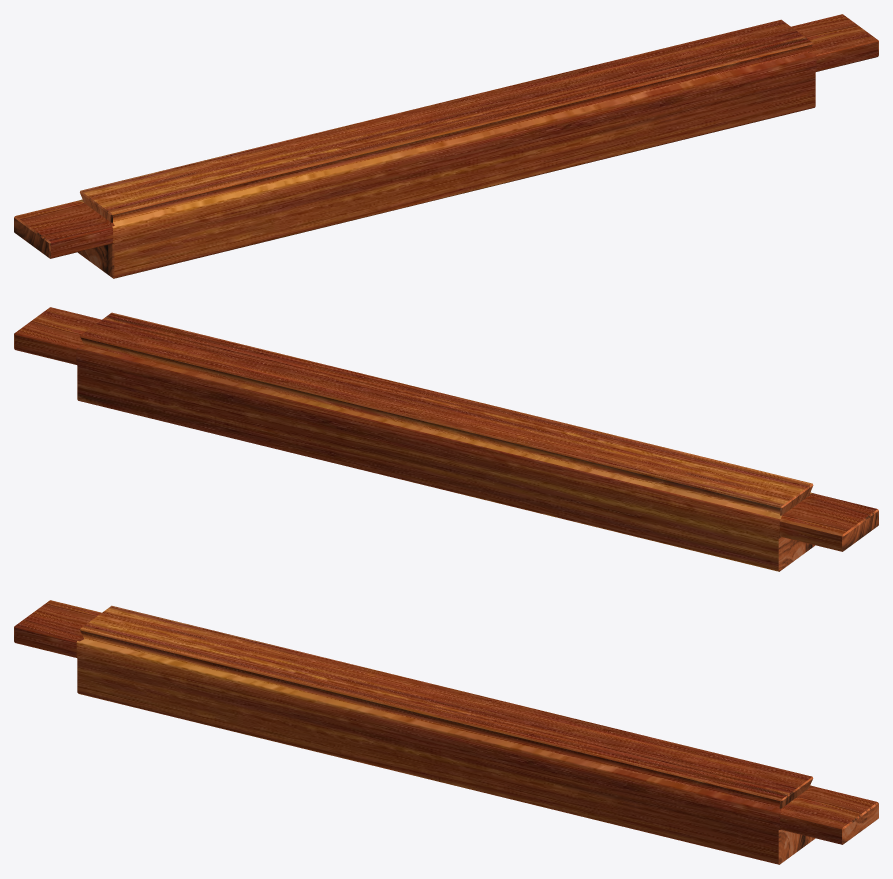
Rendered from yuandeng_J_D_chuandai.FBX.
The picture shows the model from 3 angles, top to bottom: view 1: azimuth 30°, elevation 25°; view 2: azimuth 150°, elevation 25°; view 3: azimuth 330°, elevation 25°; orthographic projection.
Visible parts, largest first — view 1: yuandeng_J_D_chuandai; view 2: yuandeng_J_D_chuandai; view 3: yuandeng_J_D_chuandai.
Part boxes in pixels (<box>): yuandeng_J_D_chuandai: <box>14,14,878,278</box>; yuandeng_J_D_chuandai: <box>14,307,878,571</box>; yuandeng_J_D_chuandai: <box>14,600,878,864</box>.
Size of the model in its own units: 39.41 by 2.9 by 3.
Materials: 2 (2 with a texture image).
